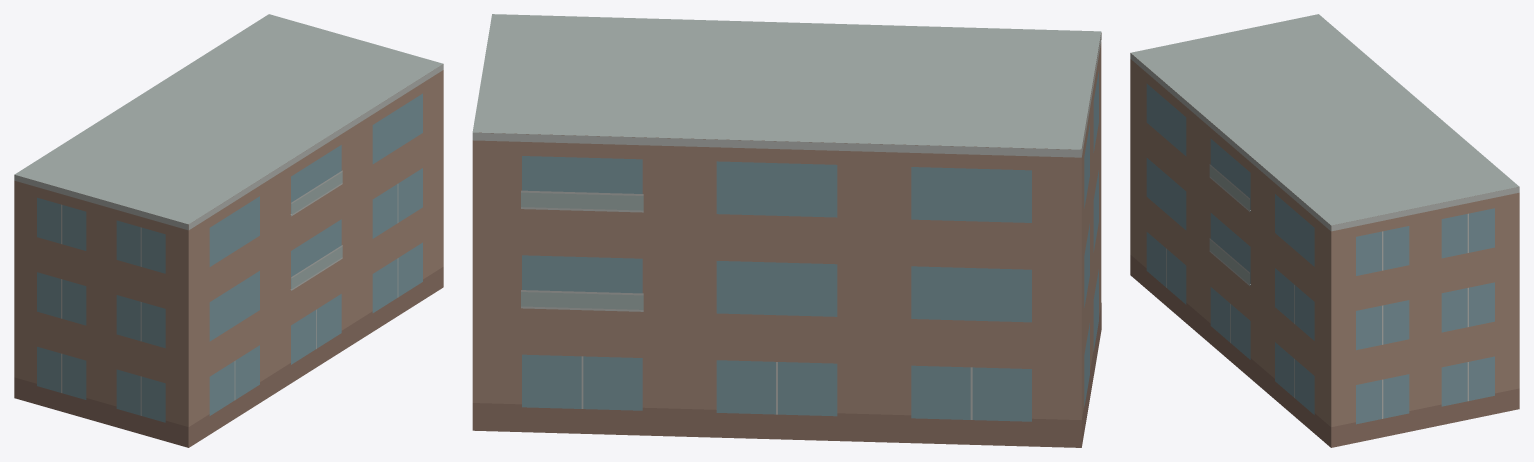
File: survey-upis-32698839.glb
The picture shows the model from 3 angles, left to right: view 1: azimuth 30°, elevation 25°; view 2: azimuth 150°, elevation 25°; view 3: azimuth 270°, elevation 25°; orthographic projection. The views are drawn at different scales.
Visible parts, largest first — view 1: survey-upis-32698839.tmp; view 2: survey-upis-32698839.tmp; view 3: survey-upis-32698839.tmp.
Boxes of the visible parts, x1,y1,x2,y2 form: survey-upis-32698839.tmp: (14, 14, 443, 447); survey-upis-32698839.tmp: (472, 14, 1101, 447); survey-upis-32698839.tmp: (1130, 14, 1519, 447).
Bounding box in the file's own units: 18.68 × 9.15 × 14.52.
